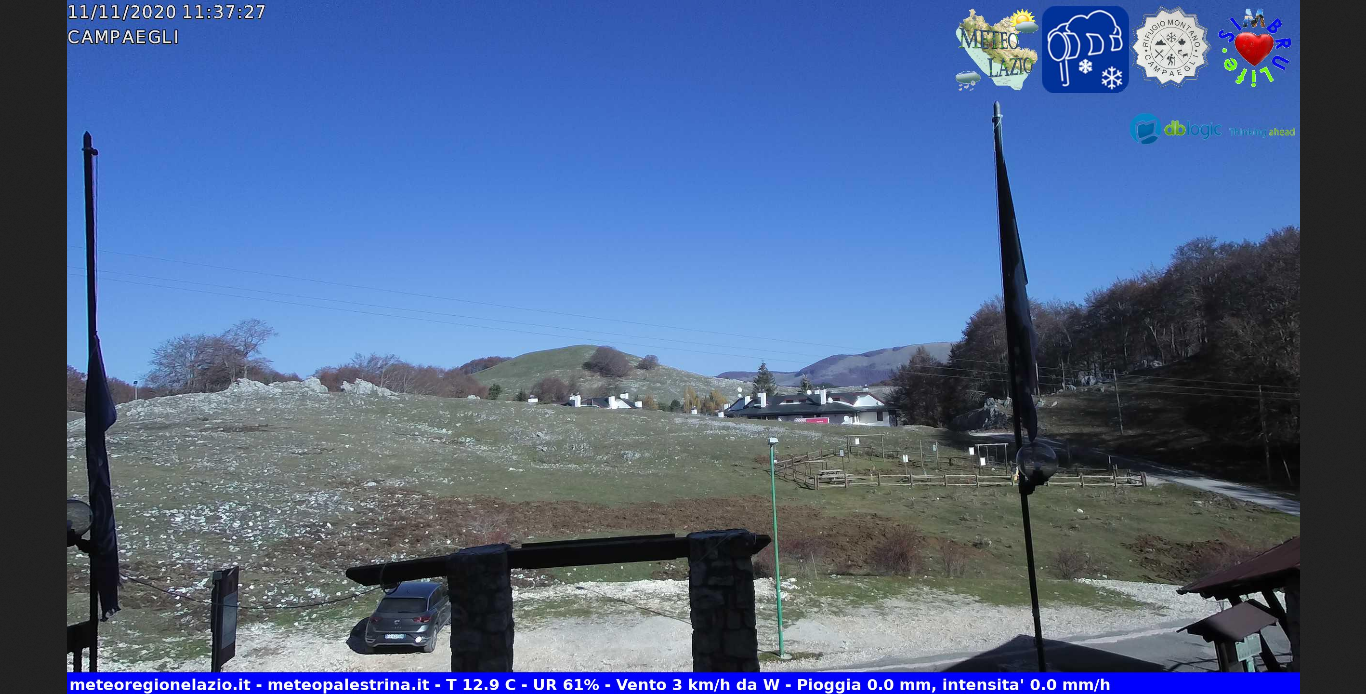no: (983, 94, 1052, 459), (76, 210, 131, 632)
